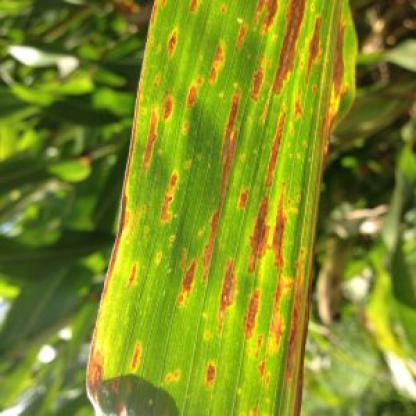Corn rust leaf: (82, 1, 345, 414)
